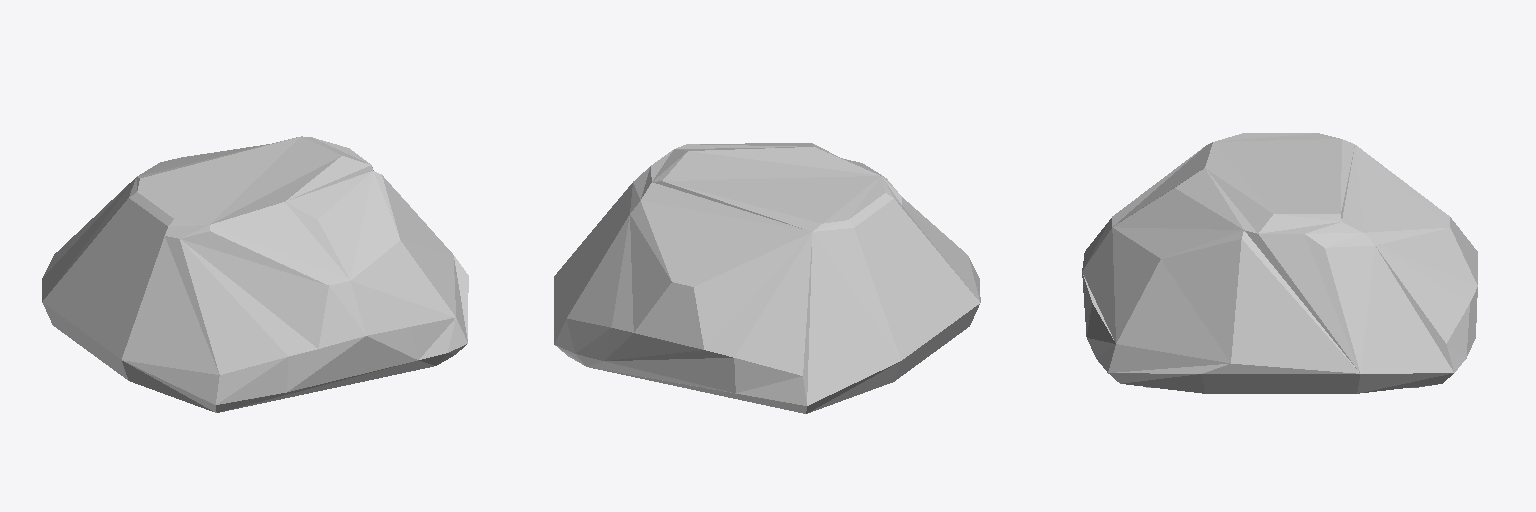
File: luarock.obj
3 renders of one model, left to right at view 1: azimuth 30°, elevation 25°; view 2: azimuth 150°, elevation 25°; view 3: azimuth 270°, elevation 25°, orthographic.
Parts seen in each view (by area): view 1: Cube; view 2: Cube; view 3: Cube.
Boxes of the visible parts, <box> form: Cube: <box>42,136,468,412</box>; Cube: <box>554,143,980,413</box>; Cube: <box>1082,133,1477,393</box>.
Size of the model in its own units: 3.71 by 1.71 by 3.67.